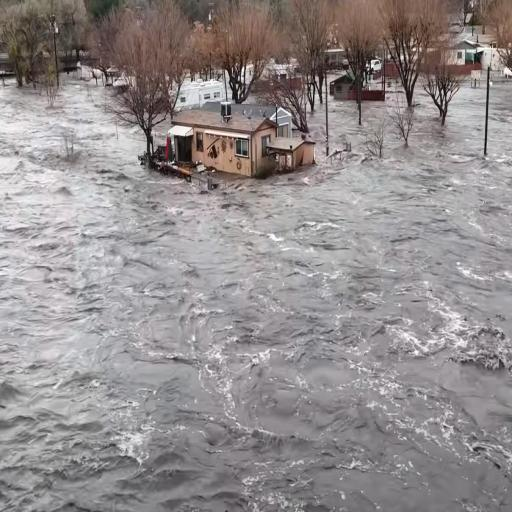flood: (0, 73, 512, 511)
house: (172, 105, 315, 177), (440, 39, 488, 75), (176, 76, 227, 109), (176, 79, 224, 106), (330, 70, 354, 100), (476, 354, 506, 372)
